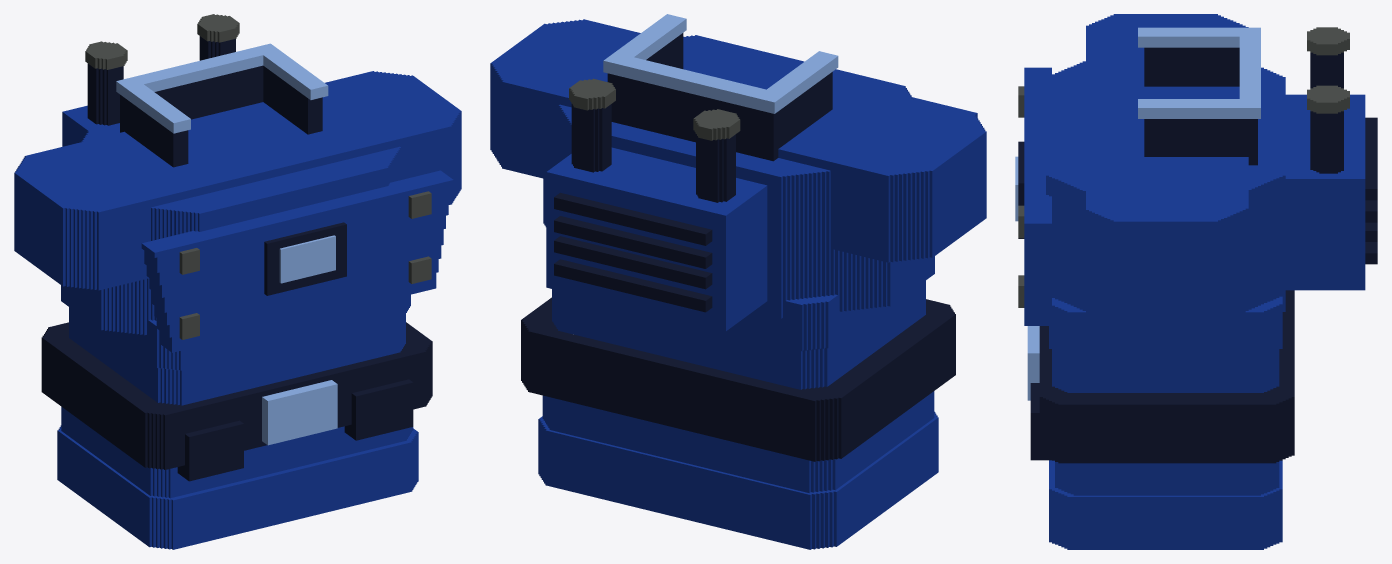
File: armor_heavy_worn_body.glb
The picture shows the model from 3 angles, left to right: view 1: azimuth 30°, elevation 25°; view 2: azimuth 150°, elevation 25°; view 3: azimuth 270°, elevation 25°; orthographic projection. The views are drawn at different scales.
Parts seen in each view (by area): view 1: armor_heavy_worn_body:compound; view 2: armor_heavy_worn_body:compound; view 3: armor_heavy_worn_body:compound.
Boxes of the visible parts, bbox=[...] form: armor_heavy_worn_body:compound: bbox=[14, 14, 461, 549]; armor_heavy_worn_body:compound: bbox=[490, 14, 986, 549]; armor_heavy_worn_body:compound: bbox=[1015, 14, 1377, 549].
Size of the model in its own units: 0.64 by 0.596 by 0.472.
